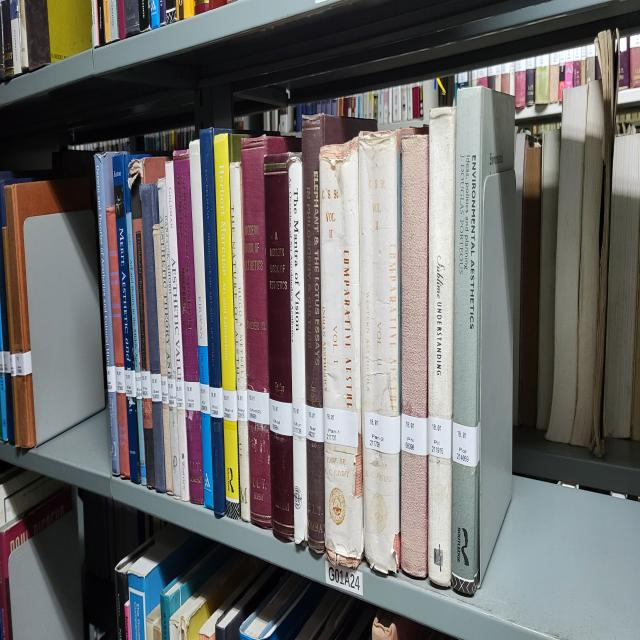Book: (451, 87, 515, 595), (302, 114, 356, 555), (241, 135, 295, 528), (320, 138, 364, 565), (359, 130, 401, 574), (428, 108, 456, 587), (172, 152, 204, 506), (265, 154, 294, 541), (200, 127, 226, 517), (214, 133, 240, 517), (112, 152, 140, 484), (129, 160, 155, 487), (165, 162, 190, 501), (95, 154, 120, 476), (140, 184, 166, 492), (401, 133, 429, 417), (289, 154, 308, 544), (230, 162, 250, 522), (159, 179, 180, 498), (106, 206, 130, 479), (152, 225, 172, 492), (189, 141, 208, 349)
Label: (364, 411, 401, 455), (324, 409, 358, 446), (452, 422, 479, 468), (401, 414, 428, 455), (428, 417, 452, 460), (269, 398, 292, 436), (248, 390, 270, 425), (306, 406, 324, 444), (222, 390, 238, 422), (184, 381, 201, 411), (292, 403, 306, 436), (210, 387, 224, 419), (236, 390, 248, 422), (200, 384, 210, 414), (175, 379, 185, 409), (151, 373, 161, 403), (125, 371, 136, 398), (115, 365, 126, 392), (141, 371, 151, 400), (106, 365, 116, 392), (168, 379, 176, 409), (161, 376, 169, 403), (135, 371, 141, 398)
